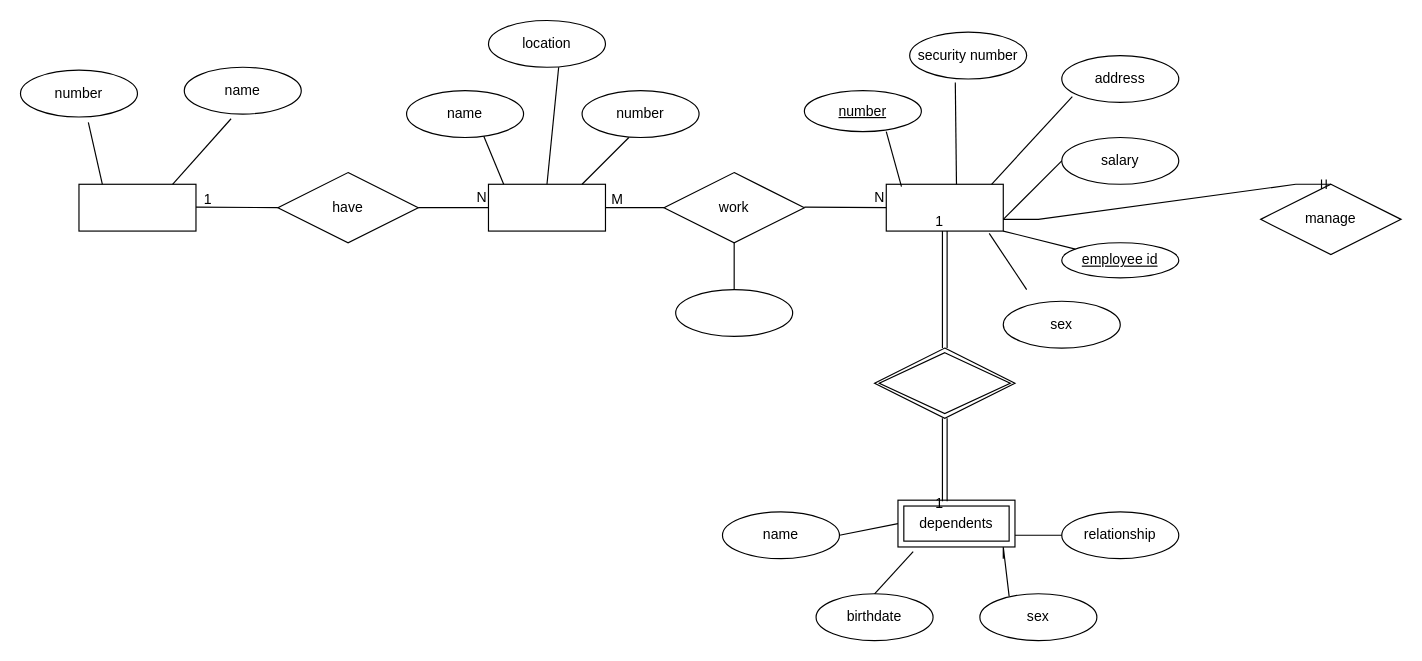
The diagram is 1422 pixels wide and 661 high, and some of its shapes have lost their labels. The shapes that lost their labels are listed below. From the top down, each one's box as (x1, y1, x2, y2) in pixels, then its label:
(78, 183, 196, 231): Department
(487, 183, 605, 231): Project
(885, 183, 1003, 231): employee
(675, 288, 793, 336): hours
(873, 347, 1015, 418): has
